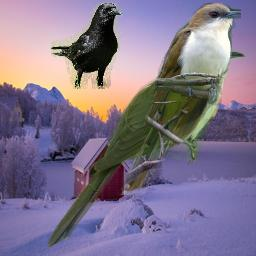Crow: (51, 2, 122, 89)
Cuckoo: (47, 43, 246, 250), (120, 0, 241, 195)
